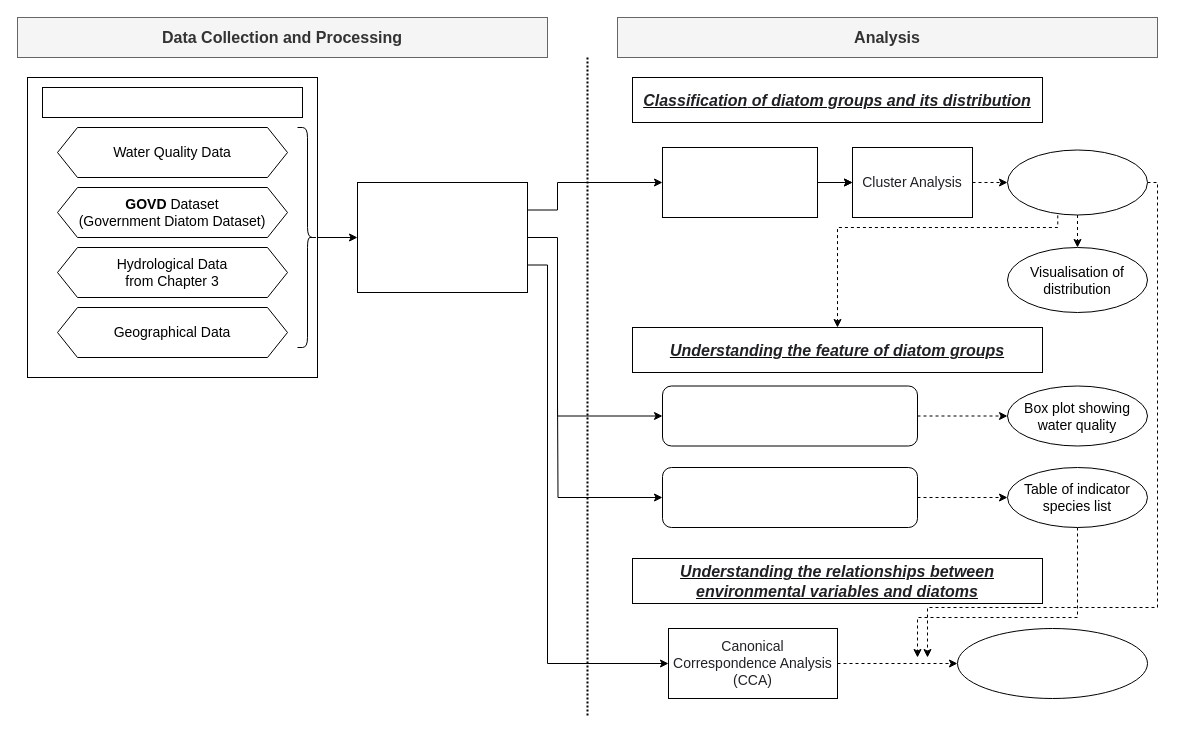
Some shapes in this 1183 by 736 pixel diagram are drawn without their labels. Here are the shapes that lost their labels. From the top down, the centre of each, then its label:
the point at 172,102: Datasets (Secondary)
the point at 740,182: Bray-Curtis Dissimilarity Matrix
the point at 1077,182: Acquisition of group vectors
the point at 442,237: Subsetting / combining data May-June for spring Sep-Oct for autumn
the point at 790,415: Summarising water quality per group
the point at 790,497: Finding Indicator Species per group
the point at 1052,663: CCA plots (ordination, indicator species, and site scores)
